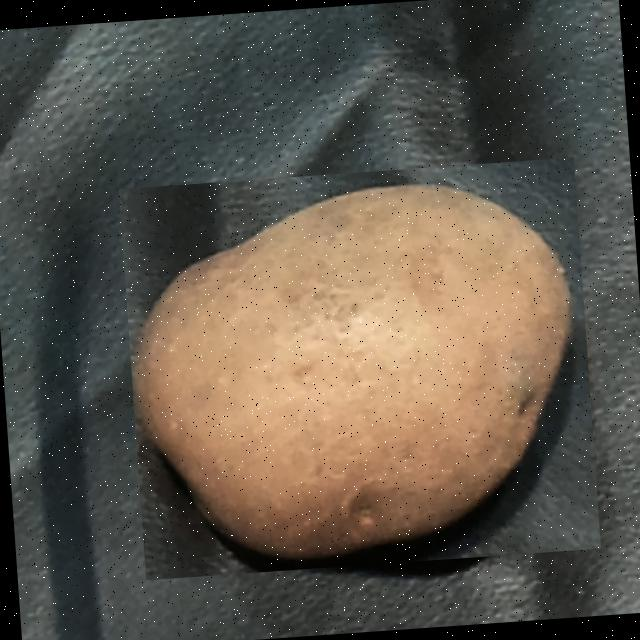Diseased-fungal potato: (119, 156, 600, 579)
